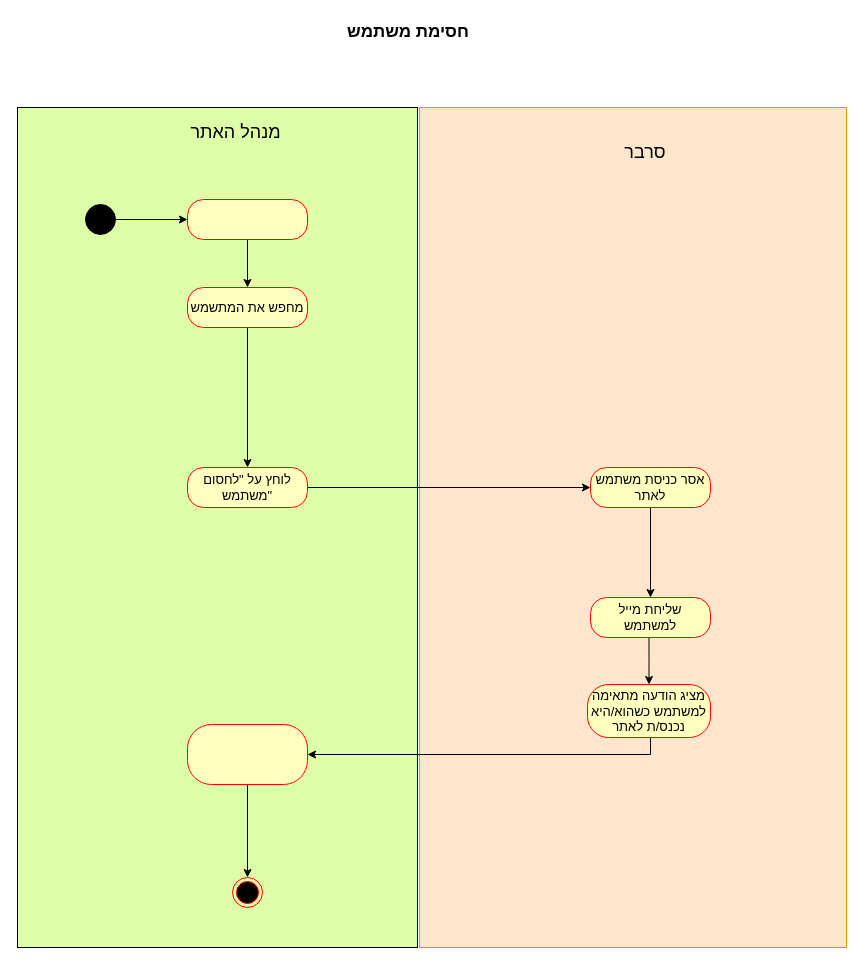
Image size: 864x965. Some labels were removed from this diagram. The shapes that lost their labels are listed below. From the top down, each one's box as (x1, y1, x2, y2) in pixels, then its label:
(186, 198, 308, 240): נכנס ל "משתמשים
(186, 724, 308, 784): מציכ הודעה מתאימה למשתמש
